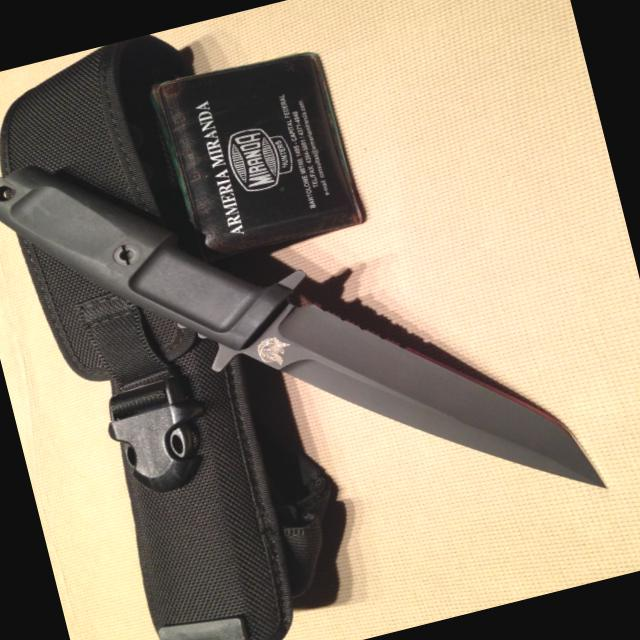knife: (231, 227, 619, 570)
